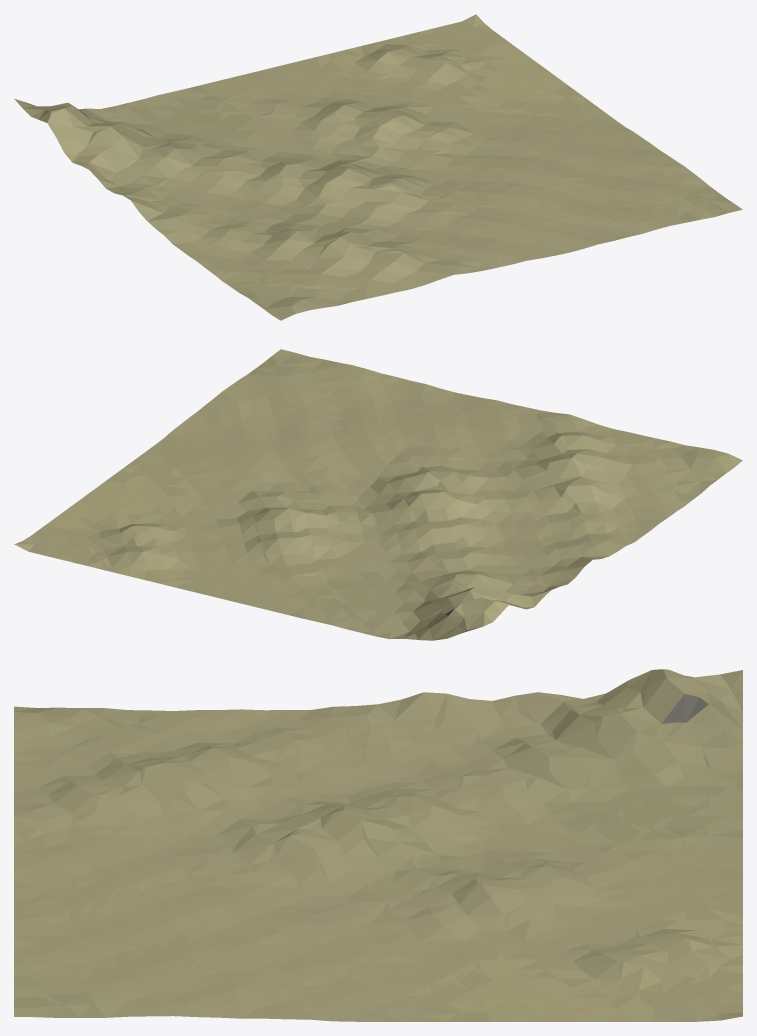
Rendered from Ground_3_-8.glb.
3 renders of one model, top to bottom at view 1: azimuth 30°, elevation 25°; view 2: azimuth 150°, elevation 25°; view 3: azimuth 270°, elevation 25°, orthographic. The views are drawn at different scales.
Visible parts, largest first — view 1: Ground_3_-8; view 2: Ground_3_-8; view 3: Ground_3_-8.
Part boxes in pixels (box(x1,y1,x2,y2)): Ground_3_-8: box(14, 14, 742, 320); Ground_3_-8: box(14, 349, 742, 640); Ground_3_-8: box(14, 669, 742, 1021).
Size of the model in its own units: 768 by 59.25 by 768.
